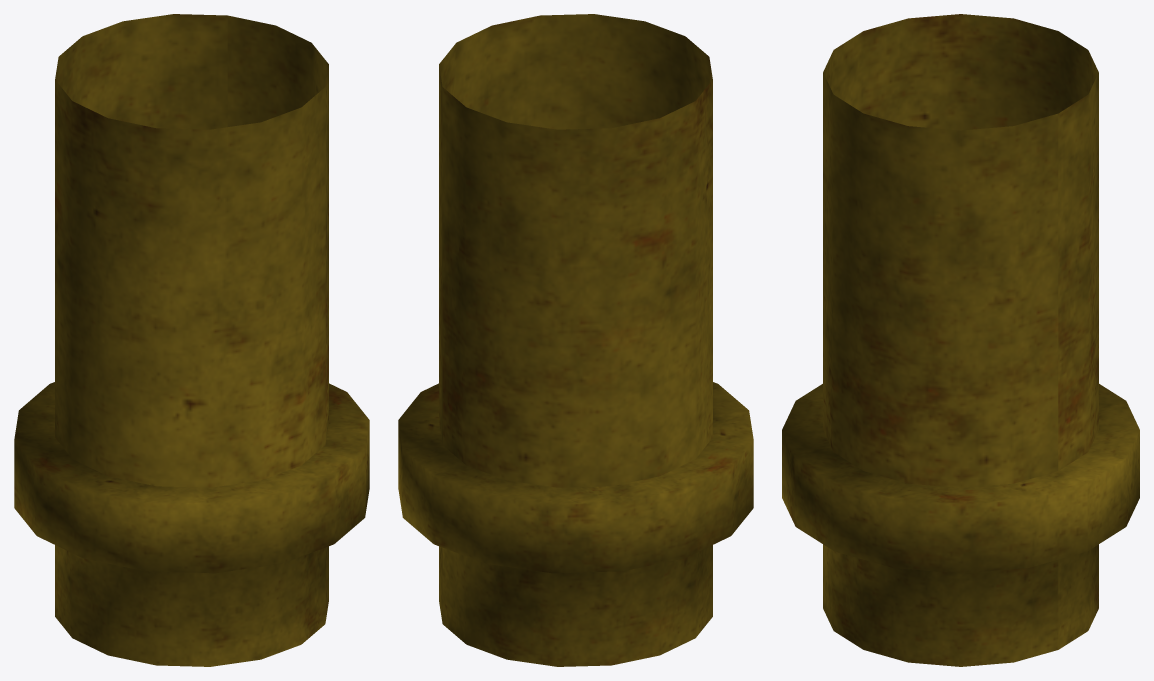
Rendered from yellow_pipe2.fbx.
The picture shows the model from 3 angles, left to right: view 1: azimuth 30°, elevation 25°; view 2: azimuth 150°, elevation 25°; view 3: azimuth 270°, elevation 25°; orthographic projection.
Visible parts, largest first — view 1: yellow_pipe2; view 2: yellow_pipe2; view 3: yellow_pipe2.
Boxes of the visible parts, x1=… form: yellow_pipe2: x1=14, y1=14, x2=369, y2=666; yellow_pipe2: x1=398, y1=14, x2=753, y2=666; yellow_pipe2: x1=782, y1=14, x2=1139, y2=666.
Size of the model in its own units: 34.01 by 56.25 by 34.01.
1 material, 1 textured.
